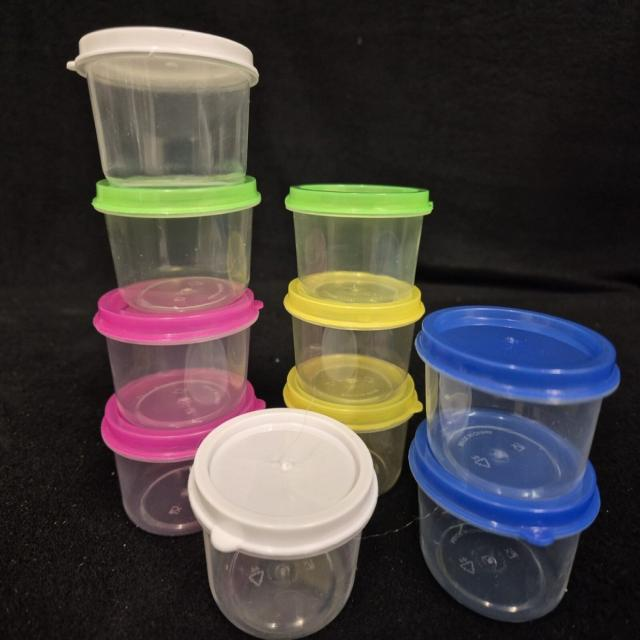plastic_box: (190, 416, 380, 618), (399, 444, 596, 634), (61, 25, 272, 189), (421, 312, 598, 499), (71, 202, 278, 314), (88, 307, 289, 421), (284, 163, 432, 301)
